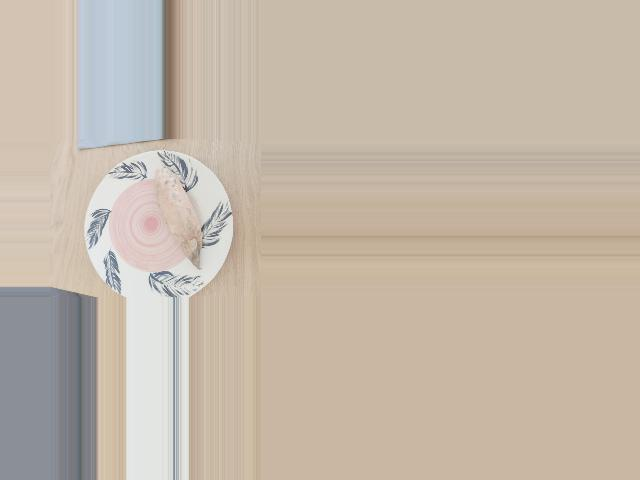sweet_potato: (151, 173, 202, 259)
